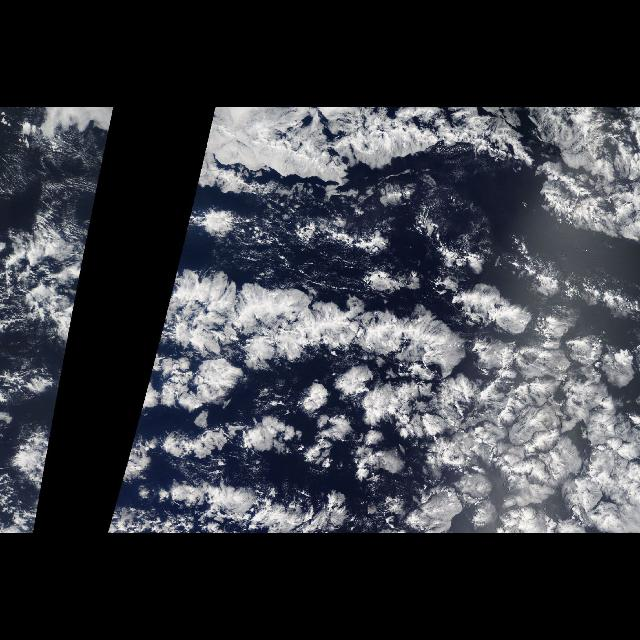Fish: (240, 283, 450, 372)
Flower: (148, 354, 470, 534)
